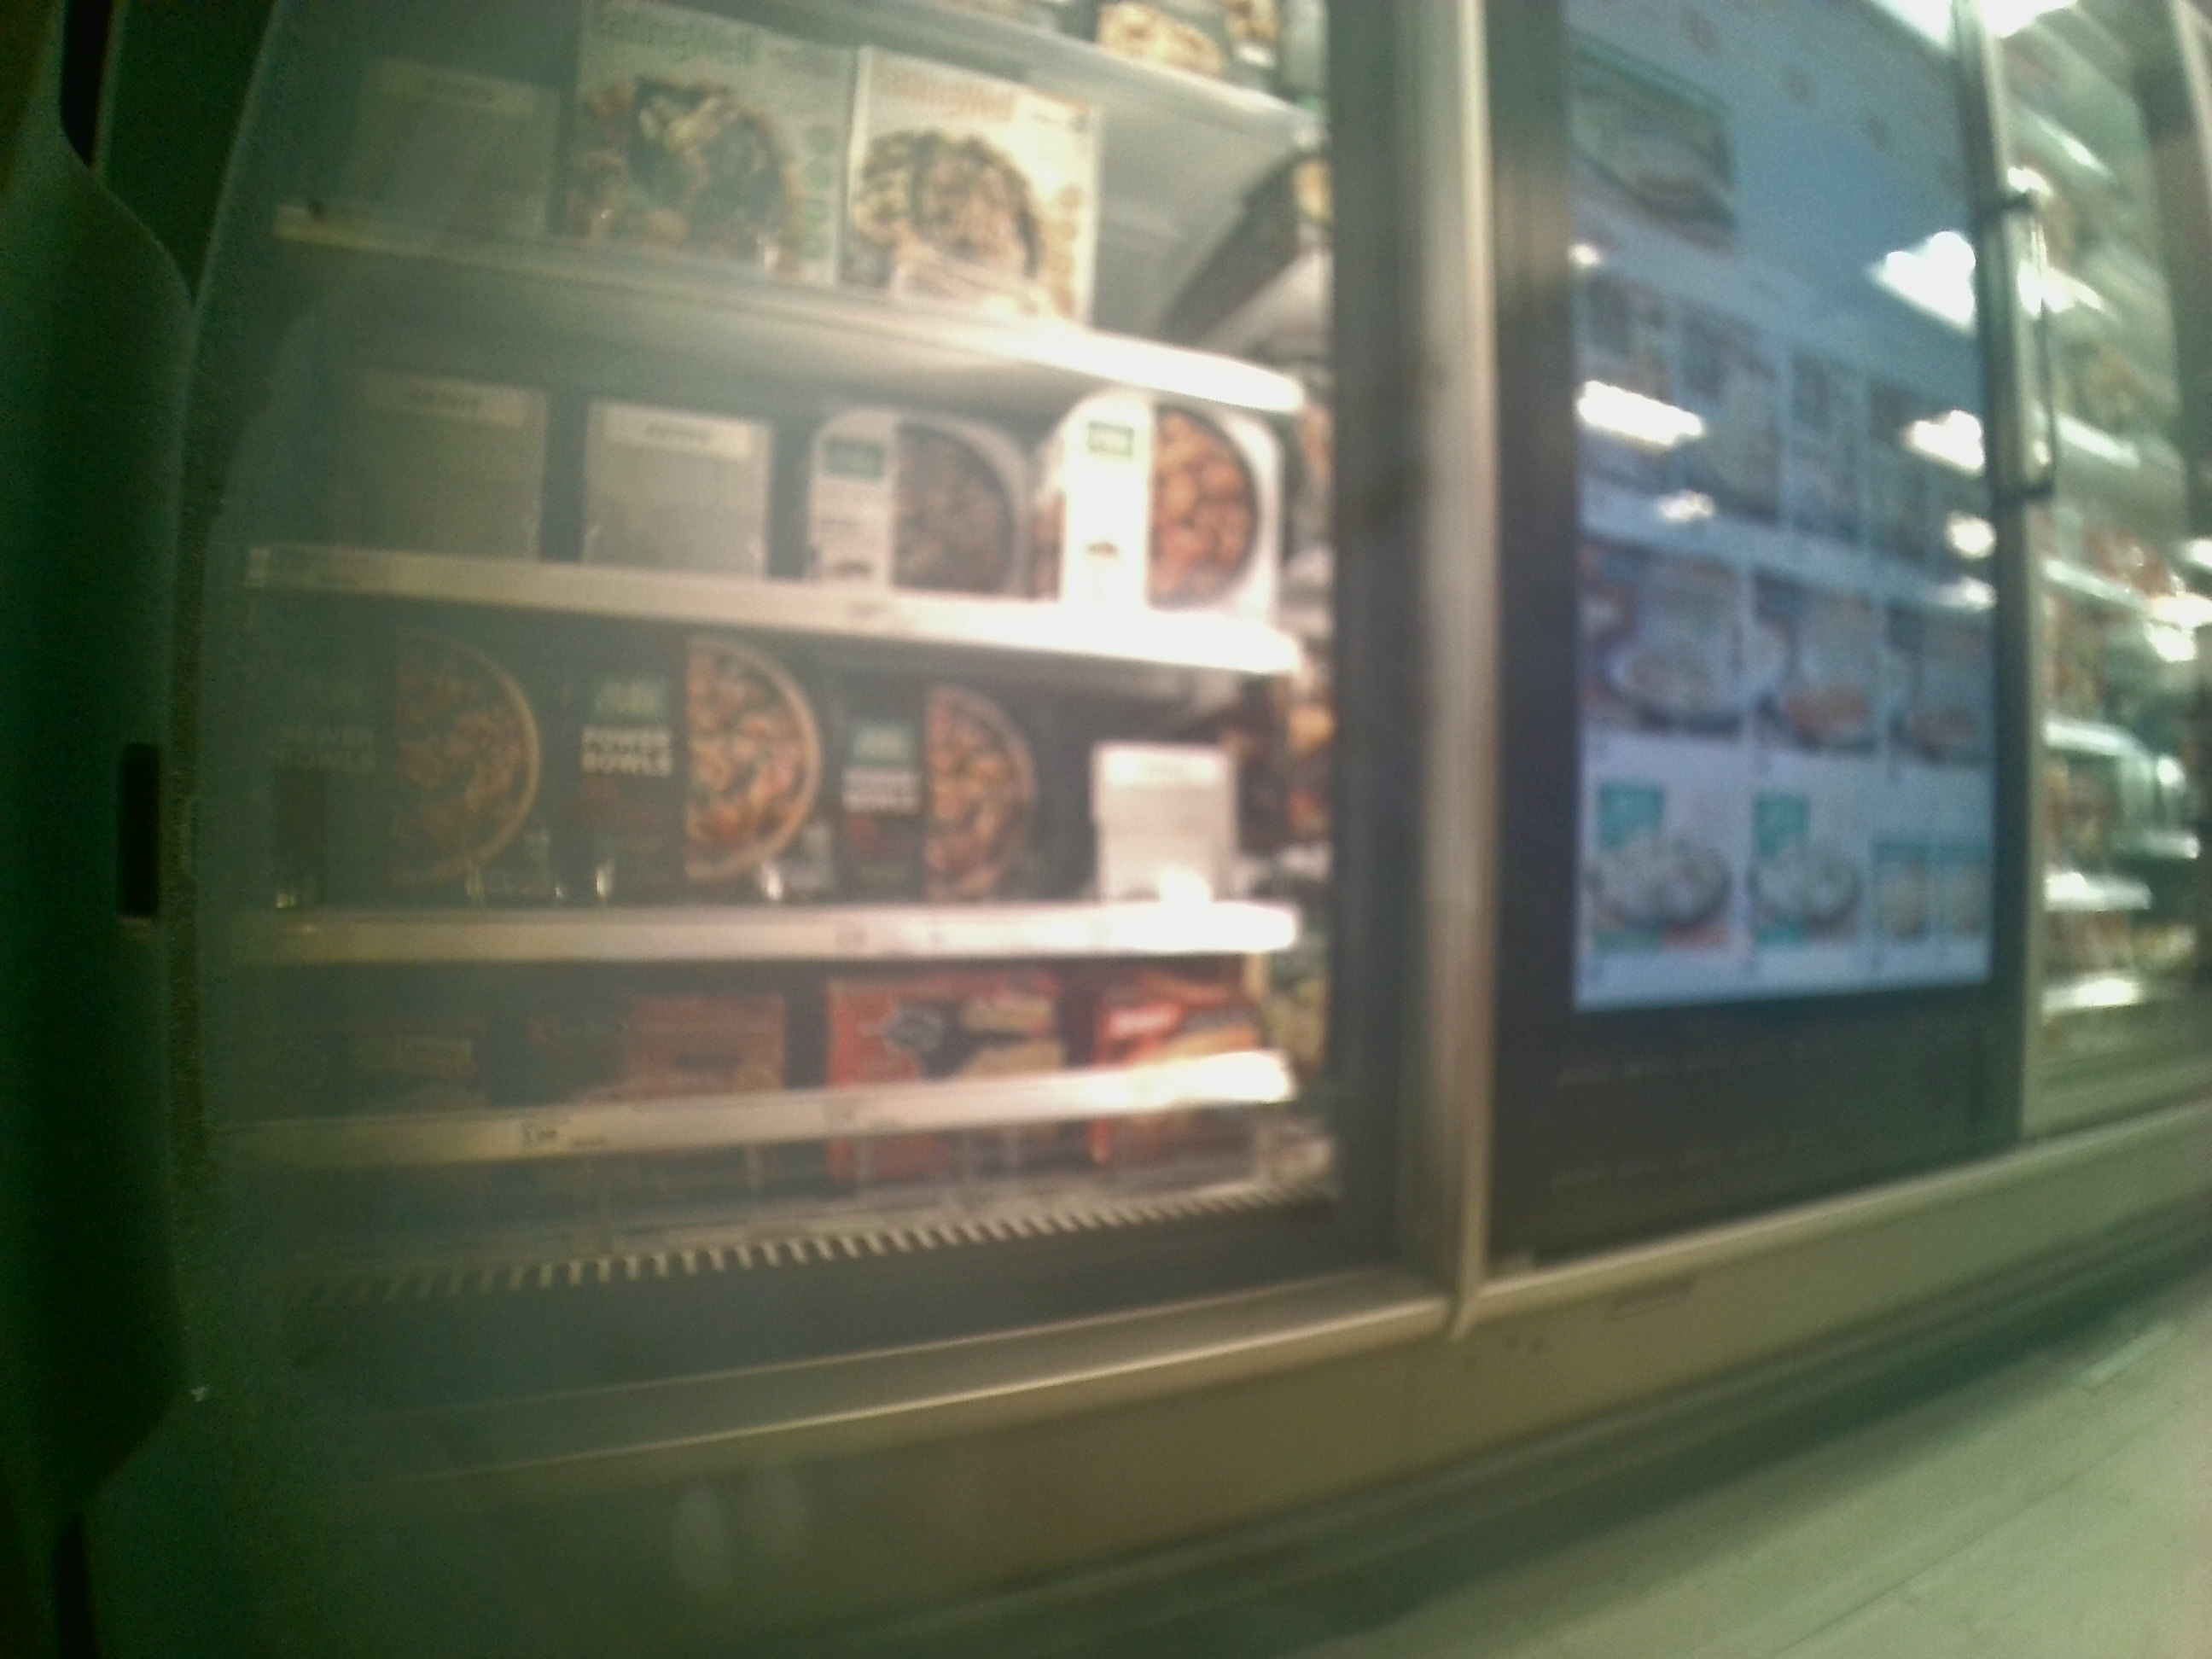shelf: (221, 568, 1325, 967), (218, 972, 1348, 1284)
